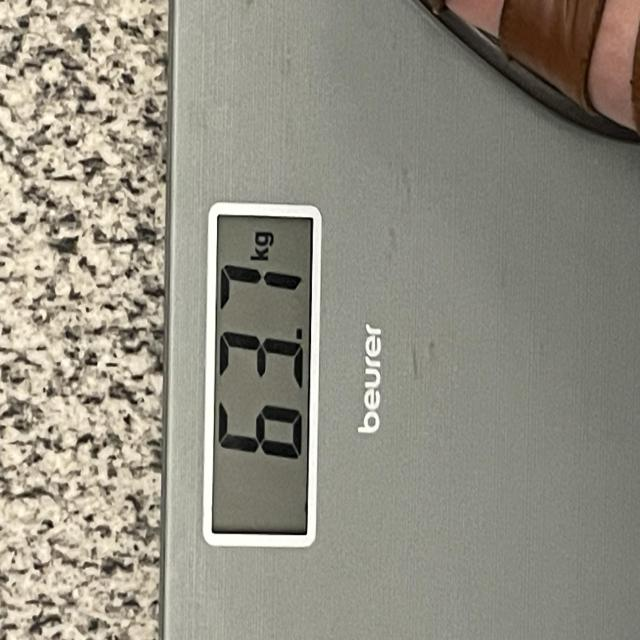ws: (199, 205, 322, 553)
